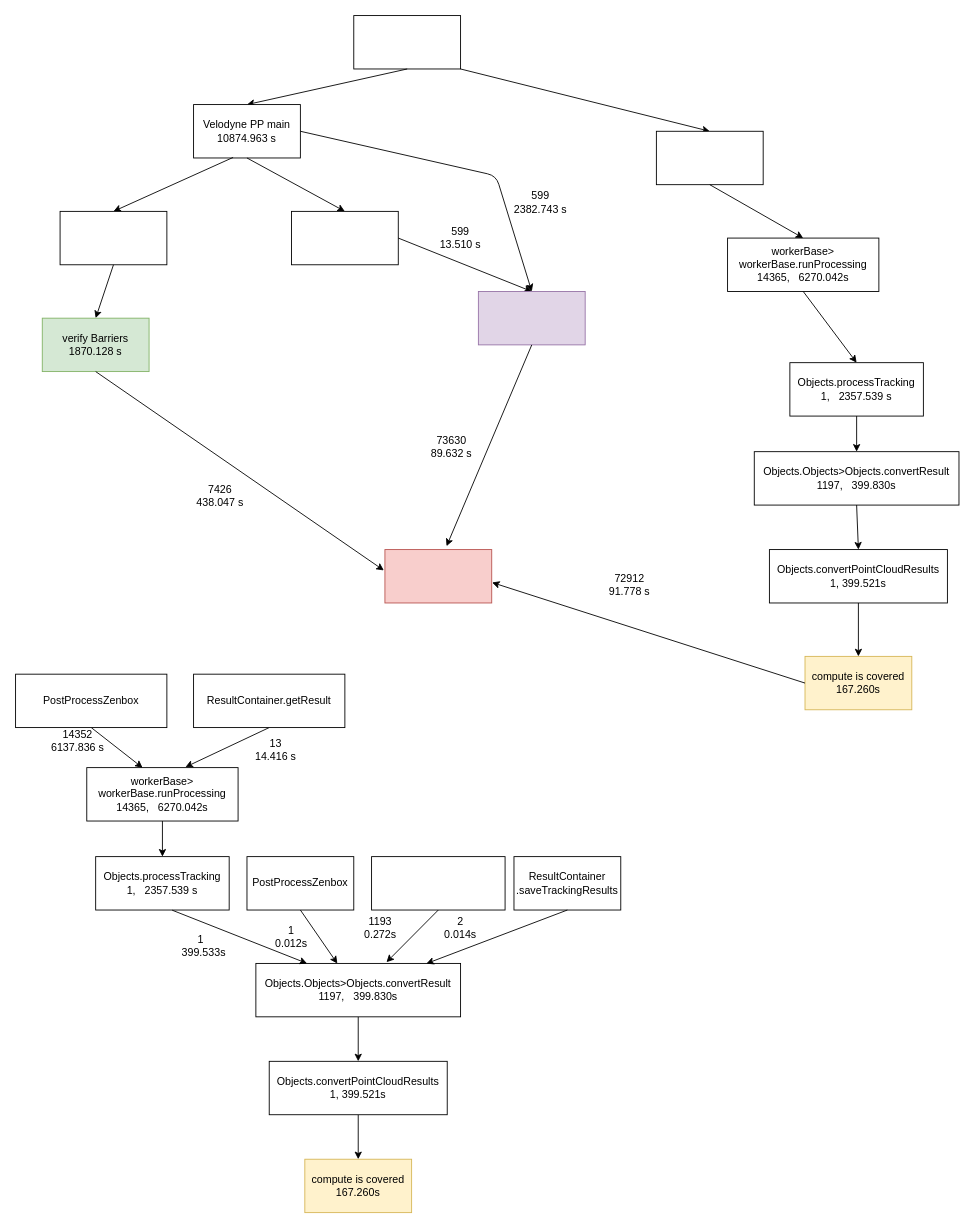
Image size: 975x1228. Some labels were removed from this diagram. The shapes that lost their labels are listed below. From the top down, each one's box as (x1, y1, x2, y2) in pixels, then its label:
(353, 15, 461, 69): Run Benchmark 17695.502 s
(655, 130, 763, 185): PostProcessZenbox 6437.255 s
(59, 210, 167, 265): get Barriers 2740.232 s
(291, 210, 398, 265): fixFarAwayGround Detections 138.482 s
(477, 291, 585, 345): segment and classify single pointcloud 2396.253 s
(384, 549, 492, 603): inpolygon
(371, 856, 505, 910): ResultContainer. saveImage ProcessingResults
